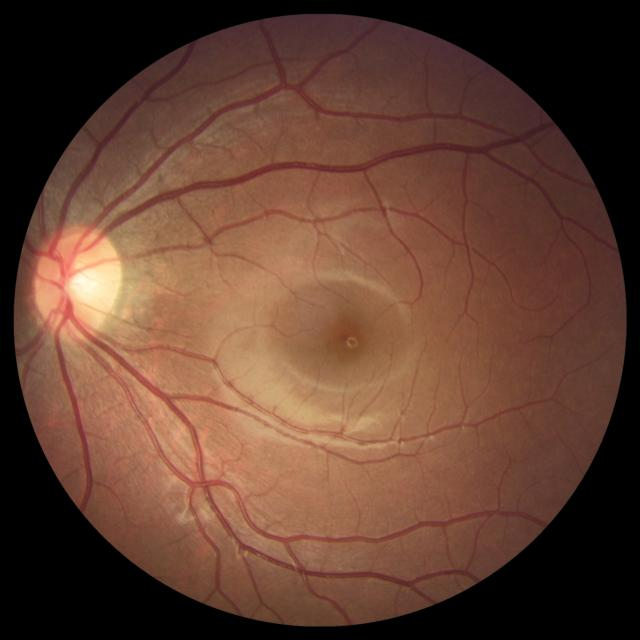OC: (61, 263, 98, 307)
OD: (34, 226, 120, 336)
